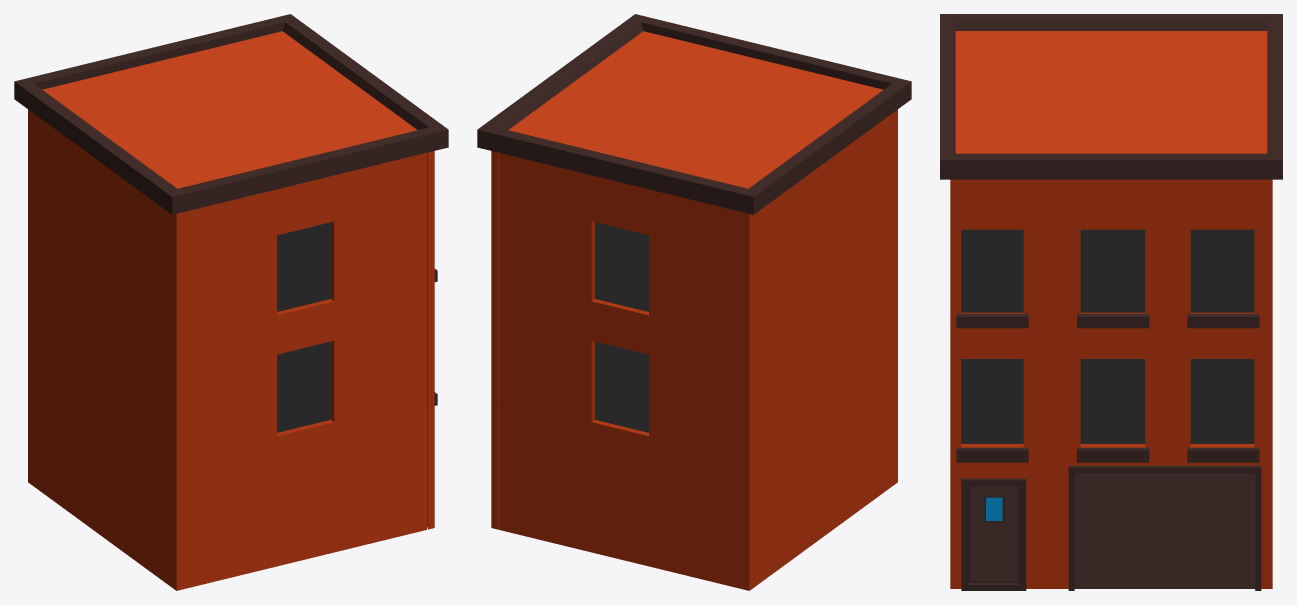
File: NewHouse.fbx
3 views of the same model, side by side, from view 1: azimuth 30°, elevation 25°; view 2: azimuth 150°, elevation 25°; view 3: azimuth 270°, elevation 25° (orthographic). The views are drawn at different scales.
Parts seen in each view (by area): view 1: Back.001, Back2, Up, Plane, Plane.002, Face; view 2: Back, Back2, Up, Plane, Plane.002, Face; view 3: Face, Up, Plane, Plane.002, Window.
Boxes of the visible parts, left/top/right/bottom form: Back.001: left=180, top=153, right=426, bottom=589; Back2: left=28, top=109, right=180, bottom=590; Up: left=14, top=14, right=448, bottom=214; Plane: left=277, top=341, right=427, bottom=432; Plane.002: left=277, top=222, right=330, bottom=311; Face: left=427, top=151, right=434, bottom=529; Back: left=499, top=153, right=745, bottom=589; Back2: left=745, top=109, right=897, bottom=590; Up: left=477, top=14, right=911, bottom=214; Plane: left=498, top=341, right=648, bottom=432; Plane.002: left=595, top=222, right=648, bottom=311; Face: left=491, top=151, right=498, bottom=529; Face: left=950, top=179, right=1272, bottom=590; Up: left=940, top=14, right=1282, bottom=179; Plane: left=961, top=359, right=1254, bottom=443; Plane.002: left=961, top=229, right=1254, bottom=312; Window: left=956, top=313, right=1259, bottom=462.
Size of the model in its own units: 4.28 by 5.92 by 4.24.
